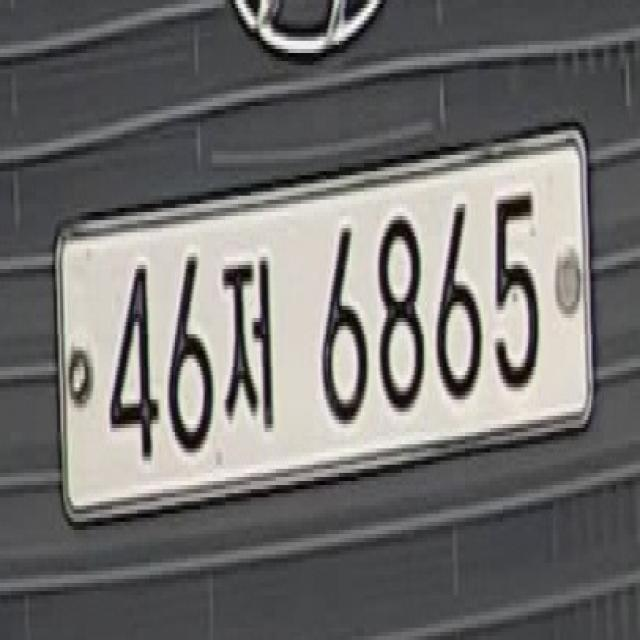4: (102, 252, 164, 482)
5: (488, 192, 542, 420)
6: (314, 216, 370, 452), (166, 244, 216, 477), (439, 195, 484, 415)
8: (377, 204, 432, 426)
jeo: (218, 247, 282, 467)
license_plate: (45, 74, 609, 572)
